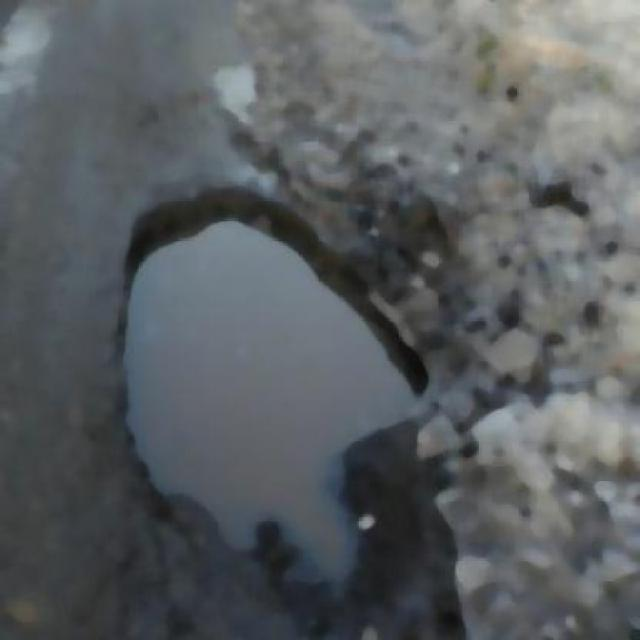pothole: (106, 178, 437, 577)
